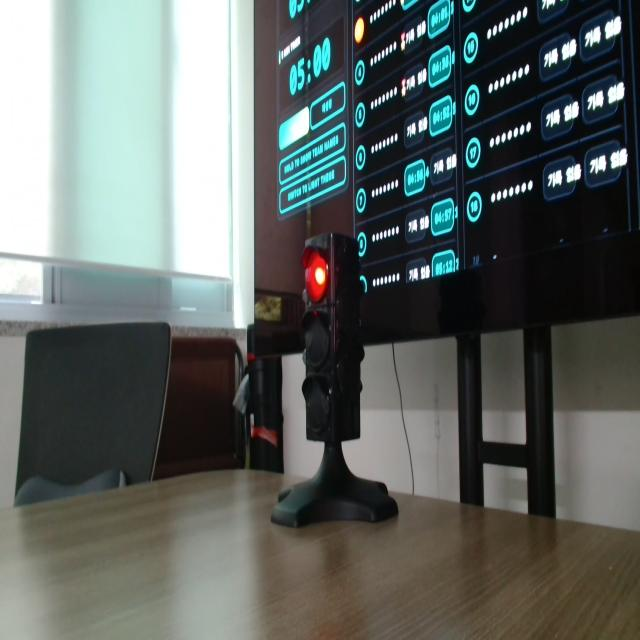red_light: (303, 248, 328, 302), (315, 267, 325, 286)
